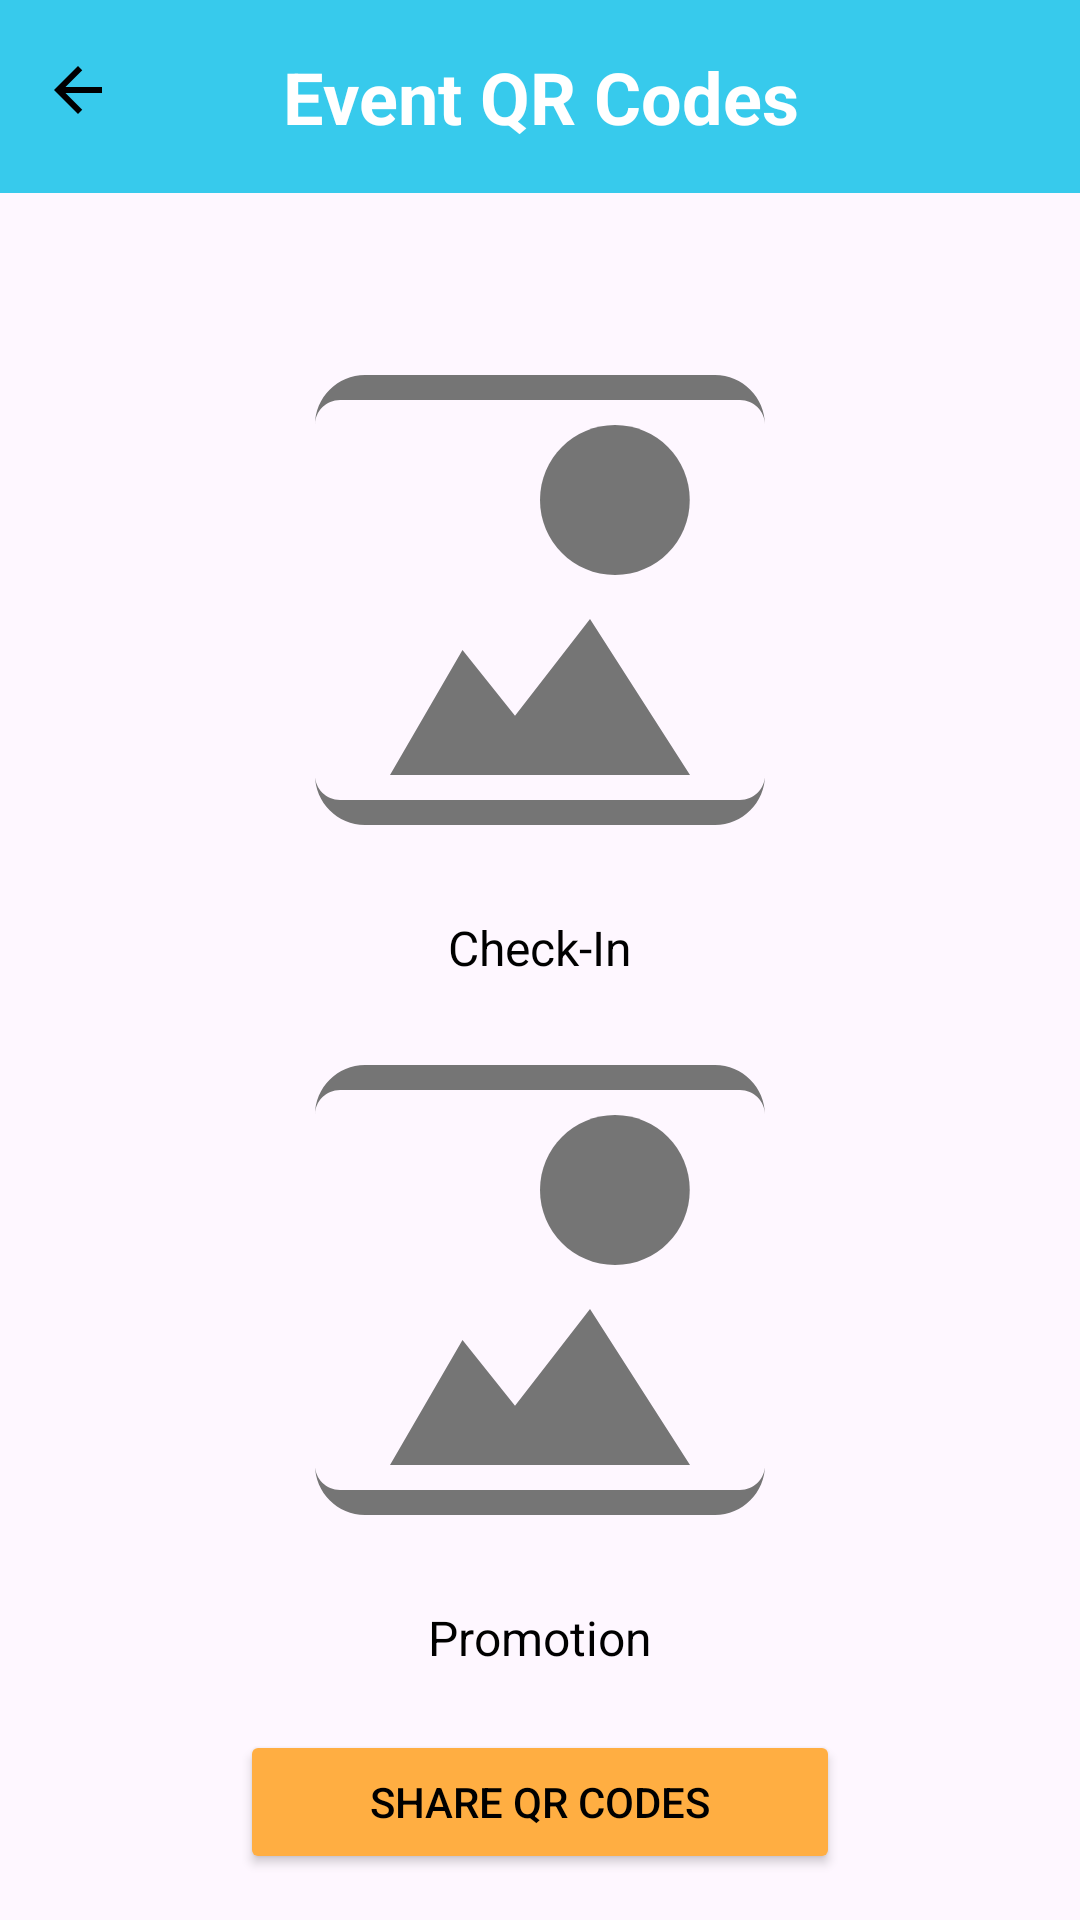

Icons on this 1080px x 1920px Android screen, each with the point to tap as (x,y):
go back to previous page: (78,90)
